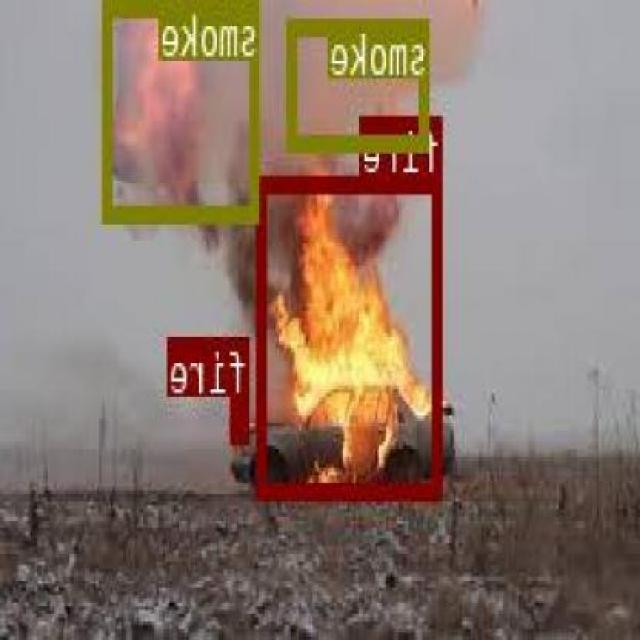Fire: (236, 236, 416, 482)
Smoke: (60, 0, 457, 233)
